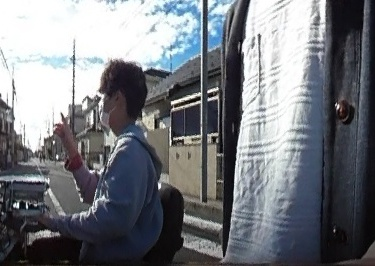person: (57, 60, 162, 266)
